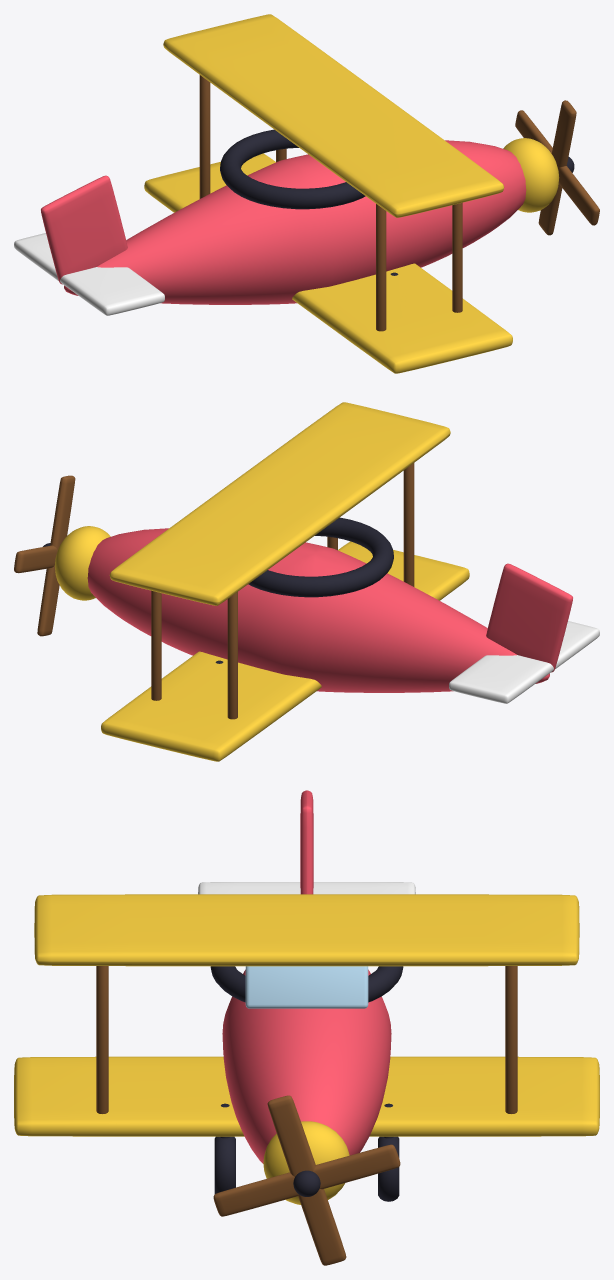
The picture shows the model from 3 angles, top to bottom: view 1: azimuth 30°, elevation 25°; view 2: azimuth 150°, elevation 25°; view 3: azimuth 270°, elevation 25°; orthographic projection. The views are drawn at different scales.
Visible parts, largest first — view 1: body, wing_top, wing_bot, fin, cockpit_rim, tail_wing, nose, blade1, blade0, strut_-0.05_1.5, strut_-0.05_-1.5, strut_0.7_-1.5; view 2: body, wing_top, wing_bot, fin, cockpit_rim, tail_wing, nose, blade0, strut_-0.05_-1.5, strut_-0.05_1.5, strut_0.7_1.5, blade1; view 3: wing_top, wing_bot, body, windshield, blade1, blade0, tail_wing, nose, strut_0.7_1.5, strut_0.7_-1.5, cockpit_rim, fin (+2 smaller).
Part boxes in pixels (x1,y1,x2,y2): body: [64, 140, 526, 304]; wing_top: [163, 14, 504, 217]; wing_bot: [144, 153, 512, 373]; fin: [41, 175, 127, 284]; cockpit_rim: [220, 129, 365, 209]; tail_wing: [14, 233, 164, 315]; nose: [503, 138, 559, 212]; blade1: [515, 110, 599, 225]; blade0: [538, 100, 576, 235]; strut_-0.05_1.5: [199, 75, 210, 198]; strut_-0.05_-1.5: [376, 204, 386, 331]; strut_0.7_-1.5: [452, 202, 462, 312]; body: [87, 528, 549, 692]; wing_top: [109, 402, 450, 605]; wing_bot: [101, 541, 469, 761]; fin: [486, 563, 572, 672]; cockpit_rim: [248, 517, 393, 597]; tail_wing: [449, 621, 599, 703]; nose: [54, 526, 110, 600]; blade0: [37, 475, 75, 636]; strut_-0.05_-1.5: [403, 463, 414, 586]; strut_-0.05_1.5: [227, 592, 237, 719]; strut_0.7_1.5: [151, 590, 161, 700]; blade1: [14, 545, 57, 573]; wing_top: [34, 894, 579, 966]; wing_bot: [14, 1056, 599, 1136]; body: [222, 969, 391, 1163]; windshield: [245, 966, 368, 1008]; blade1: [213, 1144, 400, 1216]; blade0: [267, 1095, 346, 1265]; tail_wing: [198, 882, 415, 894]; nose: [263, 1121, 349, 1204]; strut_0.7_1.5: [505, 966, 517, 1113]; strut_0.7_-1.5: [96, 966, 108, 1113]; cockpit_rim: [210, 966, 403, 1002]; fin: [300, 790, 313, 894].
Size of the model in its own units: 5.22 by 2.11 by 4.3.
